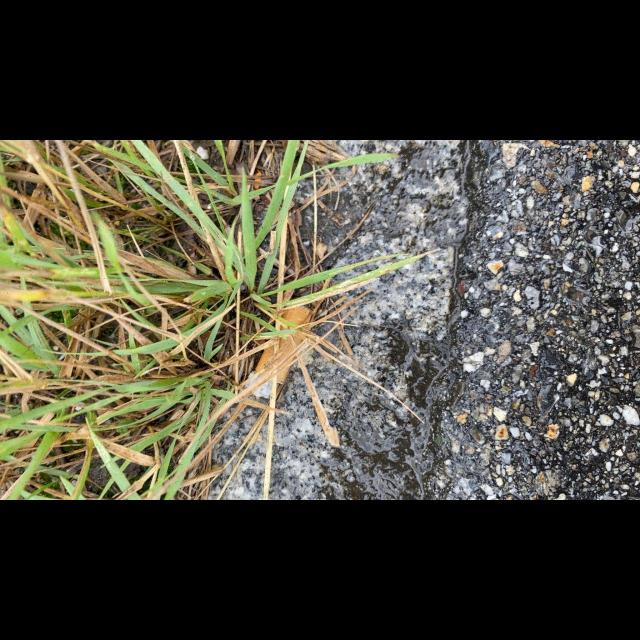cigarette: (244, 304, 312, 399)
